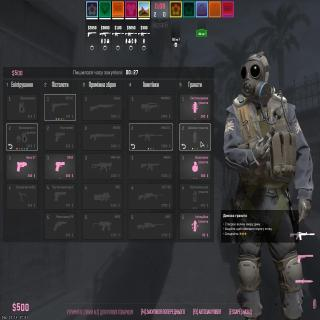CT-Body: (222, 49, 314, 320)
CT-Head: (237, 49, 273, 103)
